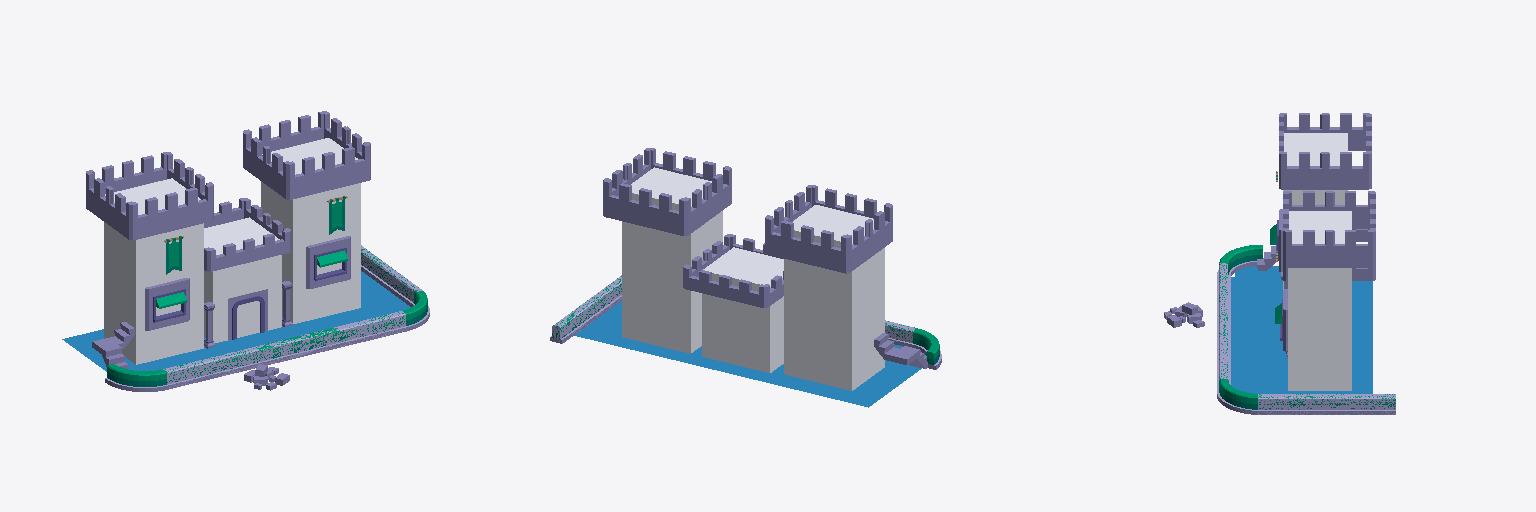
File: castle.obj
3 views of the same model, side by side, from view 1: azimuth 30°, elevation 25°; view 2: azimuth 150°, elevation 25°; view 3: azimuth 270°, elevation 25° (orthographic).
Parts seen in each view (by area): view 1: mergedBlocks; view 2: mergedBlocks; view 3: mergedBlocks.
Part boxes in pixels (x1,y1,x2,y2): mergedBlocks: (62, 111, 429, 391); mergedBlocks: (550, 148, 941, 407); mergedBlocks: (1164, 113, 1395, 414).
Bounding box in the file's own units: 8 × 3.91 × 5.06.